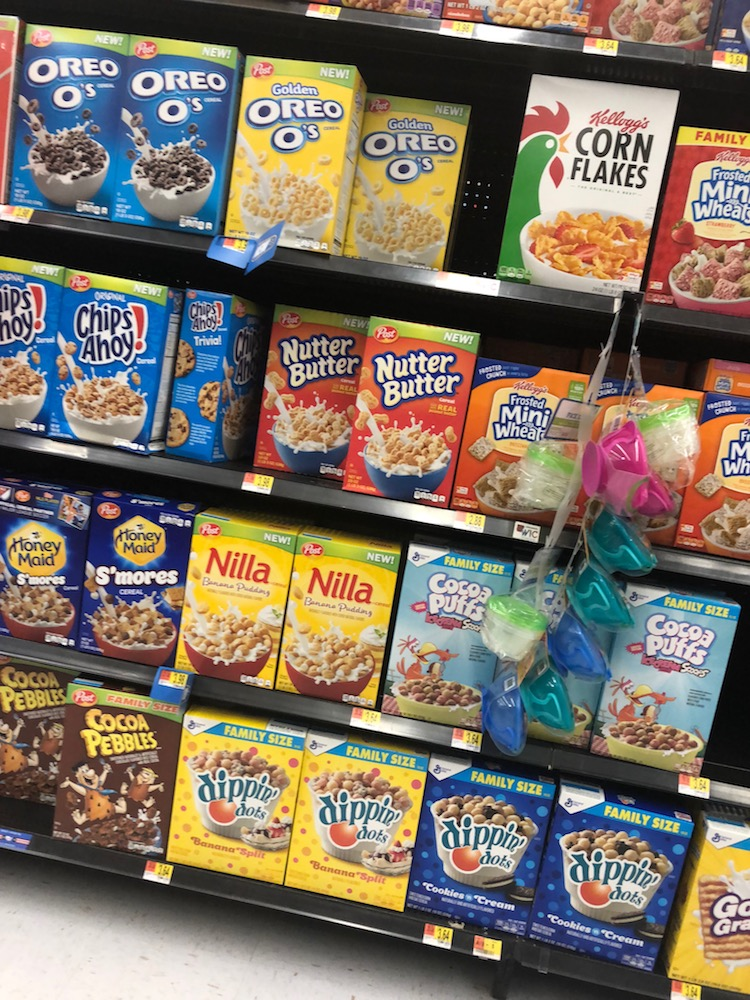Chips Ahoys-565717529: (46, 267, 172, 451)
Cocoa Pebbles-555517893: (54, 675, 174, 869)
Cocoa Puffs Ice Cream-563408546: (398, 546, 519, 727), (605, 583, 728, 760)
Dippin Dots Banana-568929376: (289, 726, 419, 910), (177, 715, 299, 891)
Dippin Dots Cookies & Cream -568929378: (547, 787, 682, 967), (412, 763, 537, 929)
Honey Maid Graham -563424385: (1, 489, 76, 645)
Mini Wheats Straw-567084832: (653, 125, 750, 309)
Nilla -568301014: (282, 536, 398, 697), (181, 521, 290, 692)
Nutter Butter-565717511: (350, 316, 475, 497), (254, 310, 362, 479)
Oreo Golden-568301011: (227, 59, 349, 250), (349, 88, 464, 267)
Oreo-563424384: (108, 32, 232, 233), (14, 21, 119, 216)
